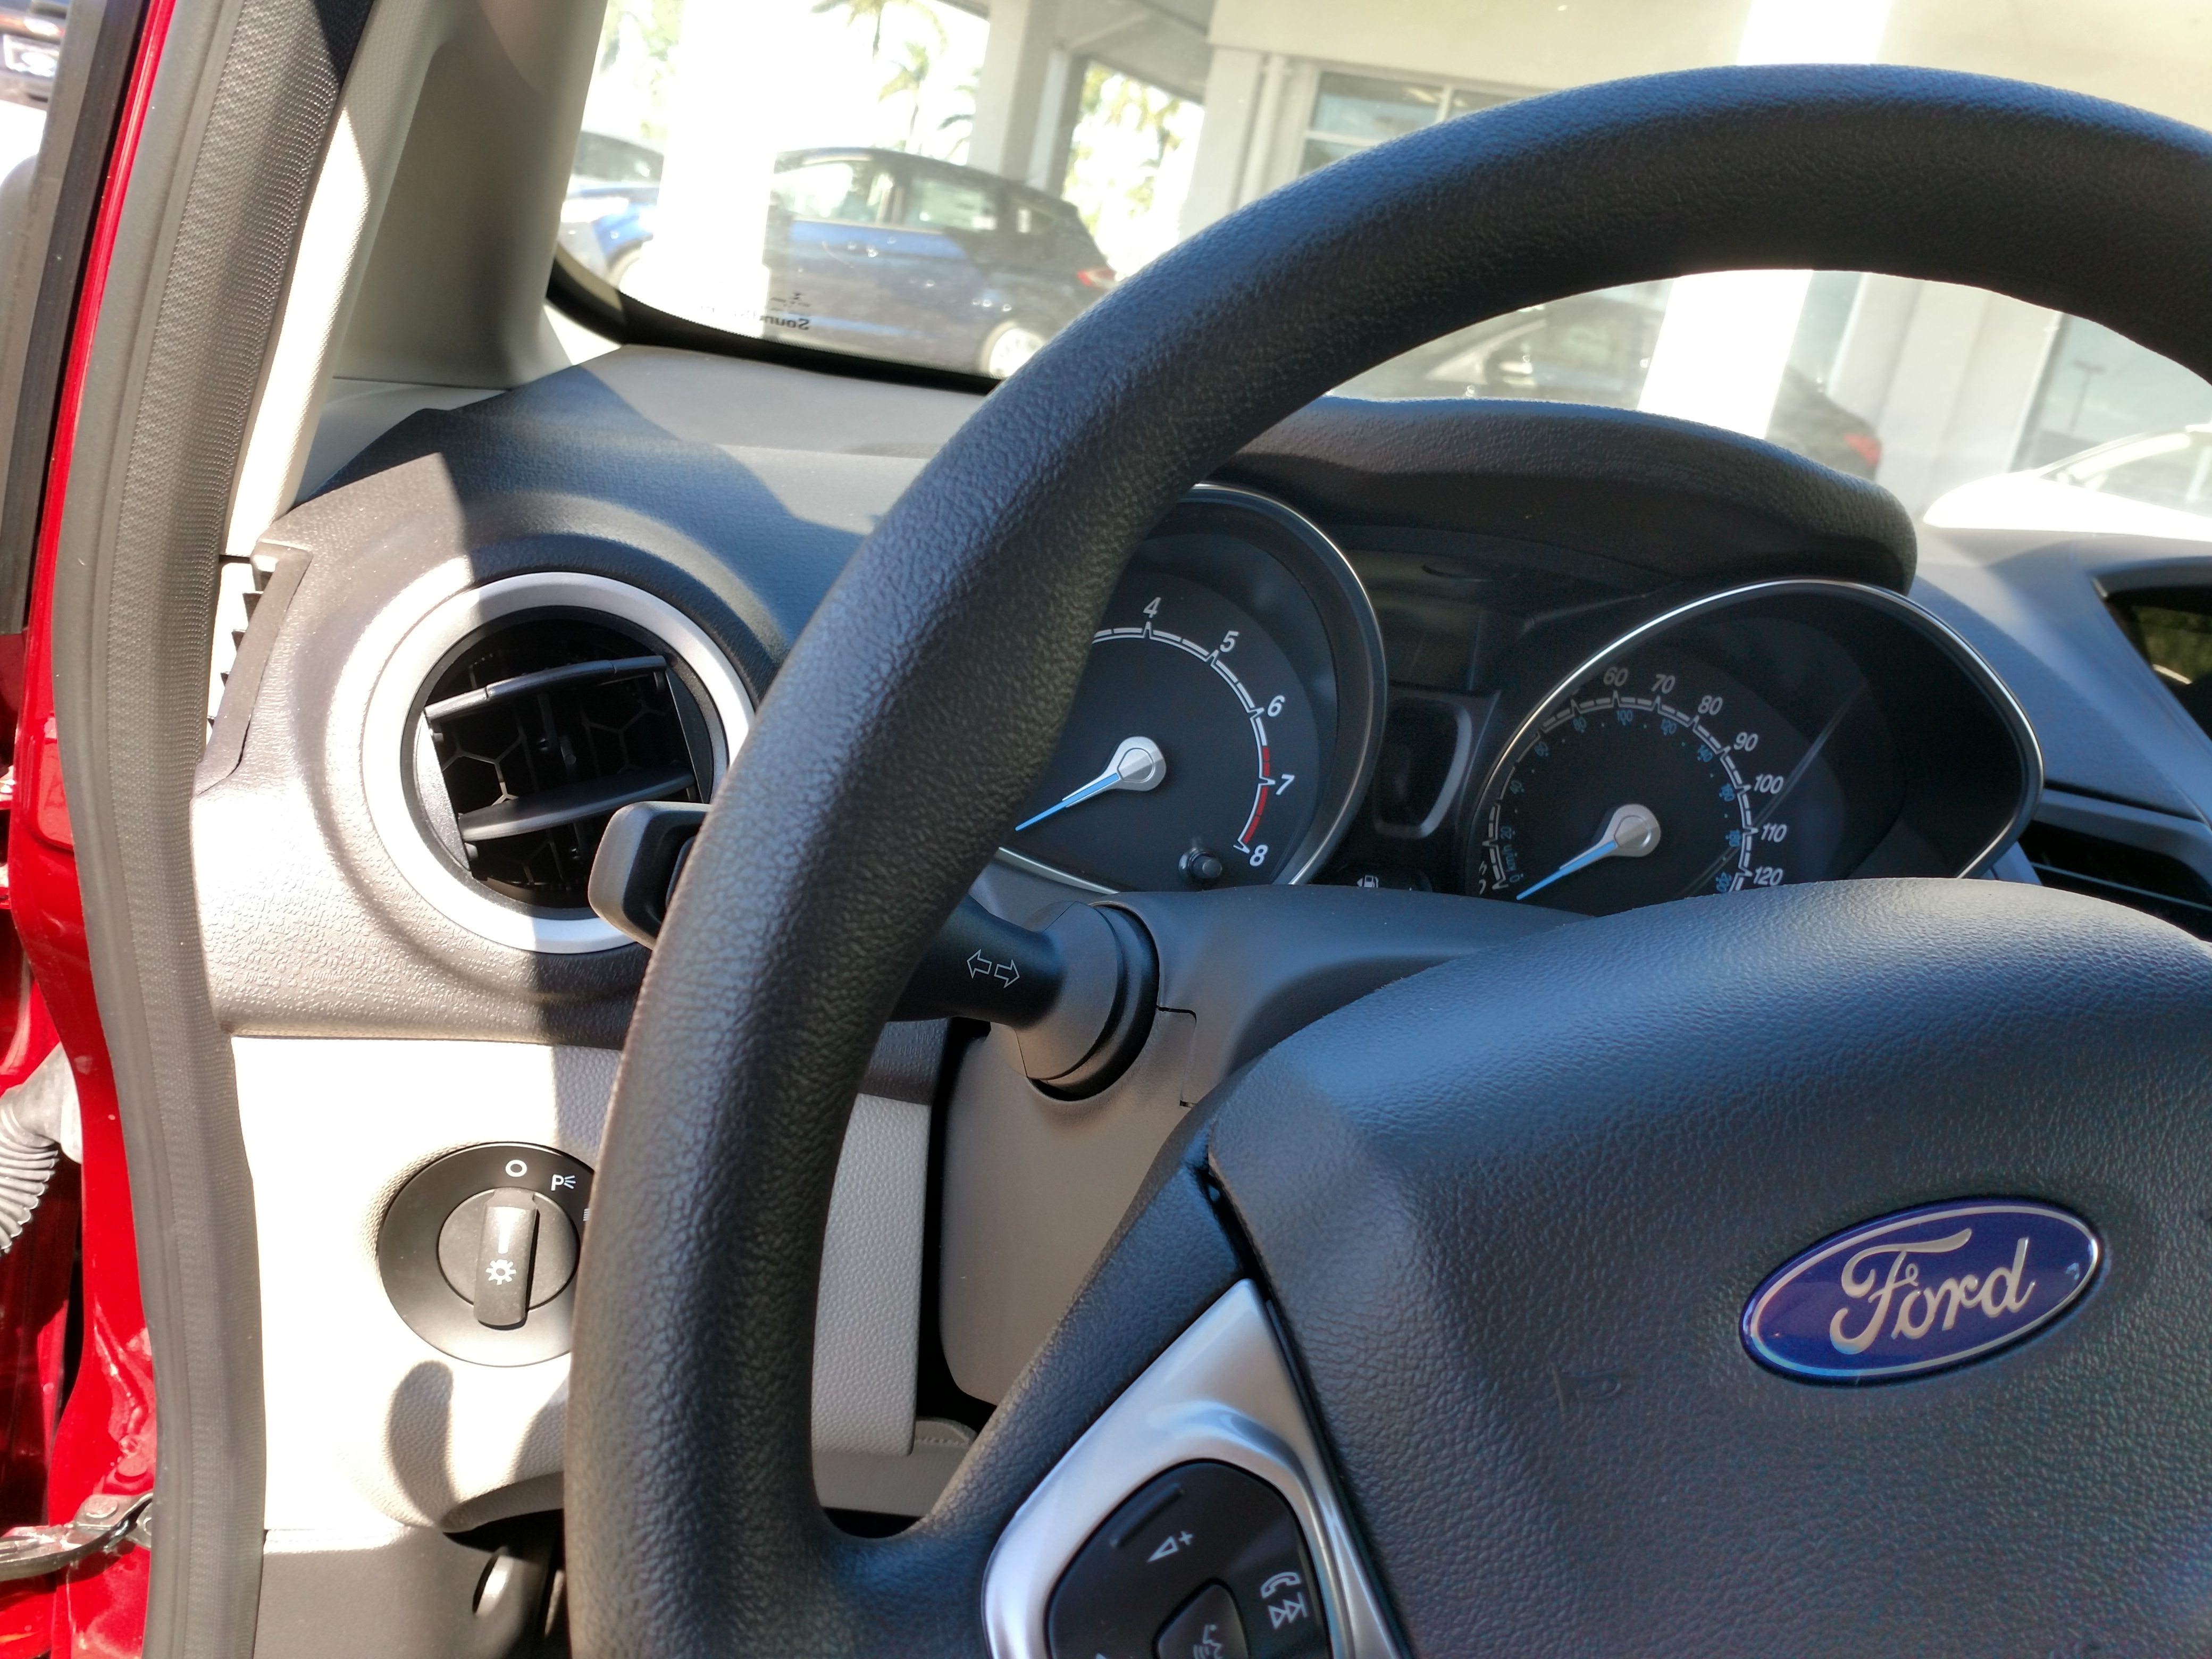Ford: (1731, 1187, 2116, 1403)
